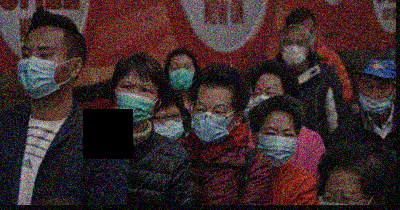mask_weared_incorrect: (360, 79, 395, 116)
with_mask: (17, 43, 73, 99), (114, 79, 159, 126), (191, 98, 236, 145), (256, 124, 298, 168), (153, 108, 185, 141), (168, 60, 198, 90), (279, 37, 310, 66)
